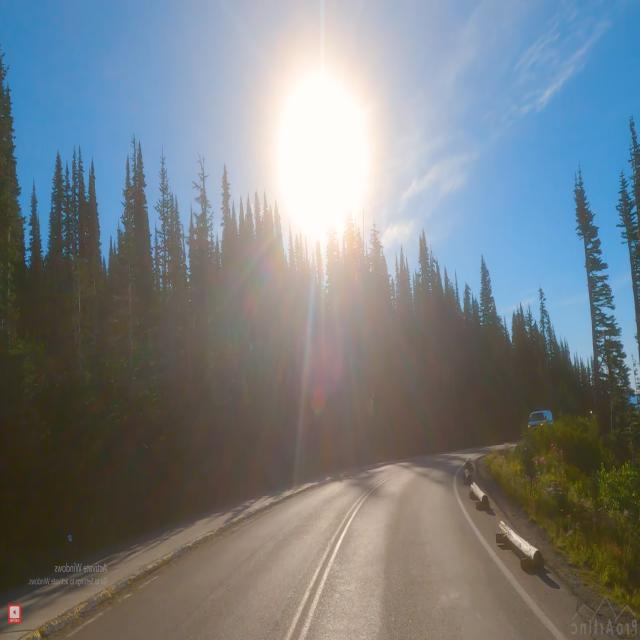sun: (249, 39, 390, 262)
